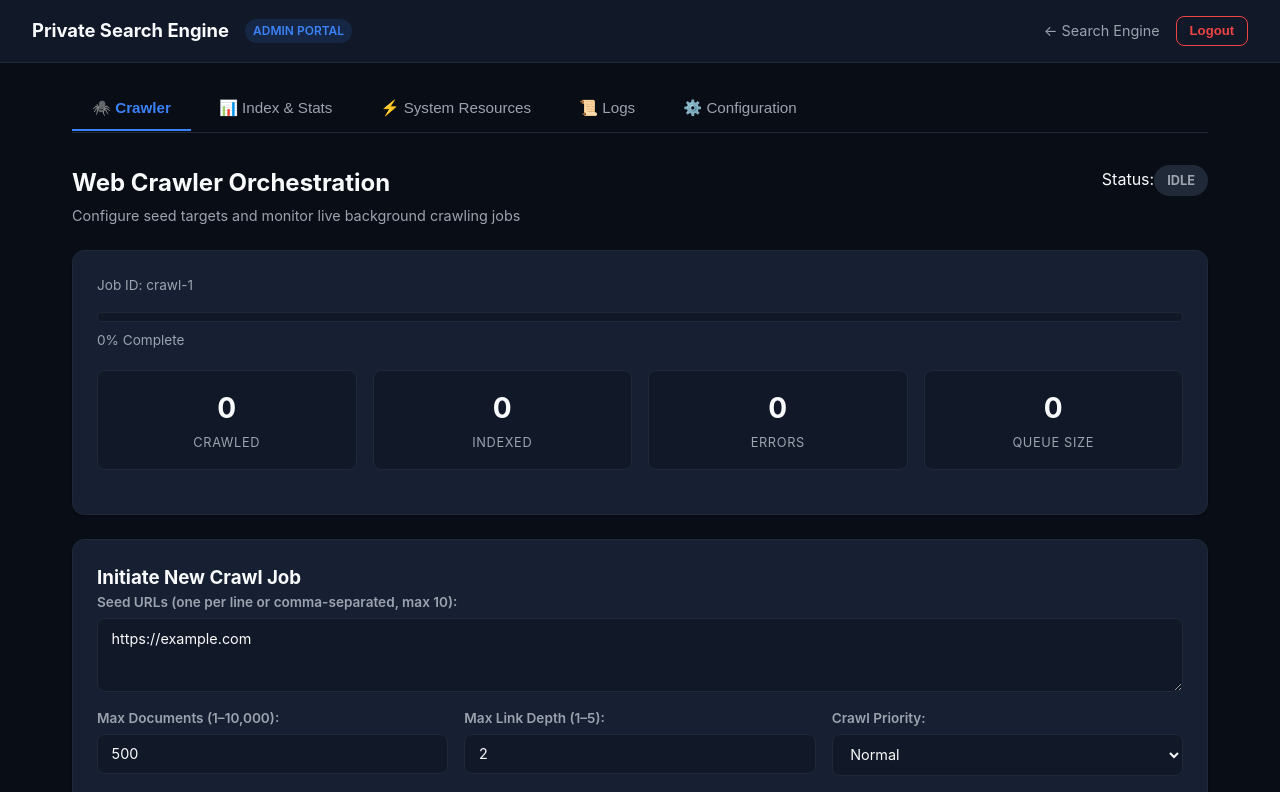
AdminDashboard & Authentication Gate › clears token and returns to login gate when logout is clicked
Click the button "Logout" at [1212, 31], box x1=1176 y1=16 x2=1248 y2=46
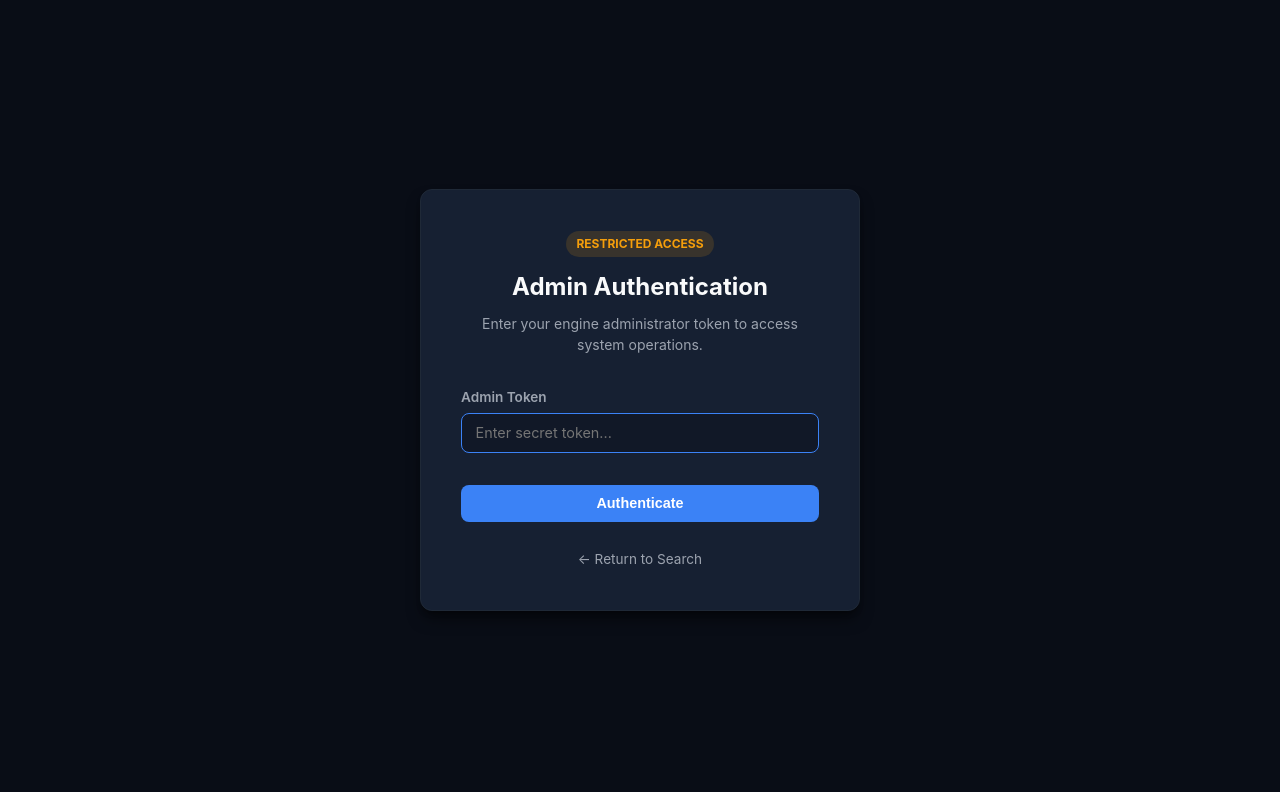
Now the heading "Admin Authentication" is shown, box x1=512 y1=272 x2=768 y2=301
